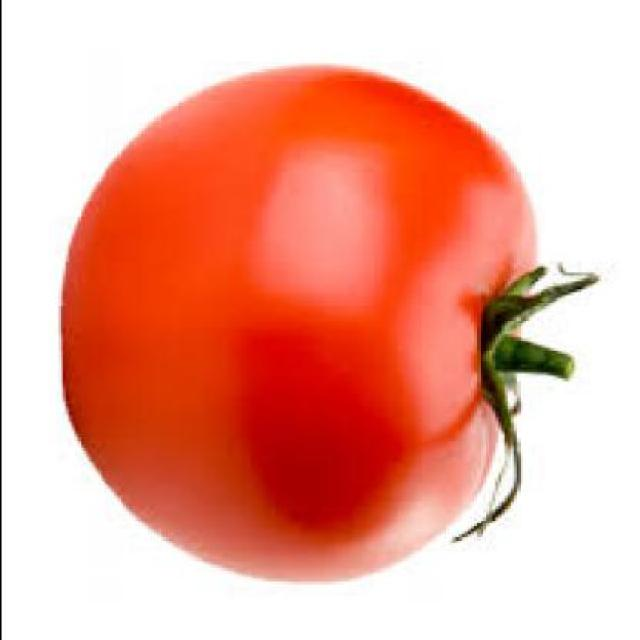BIODEGRADABLE: (59, 61, 547, 582)
